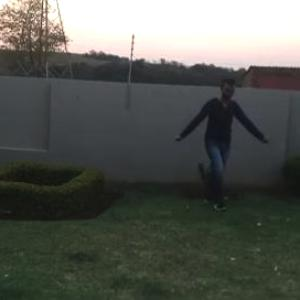land: (178, 93, 264, 213)
